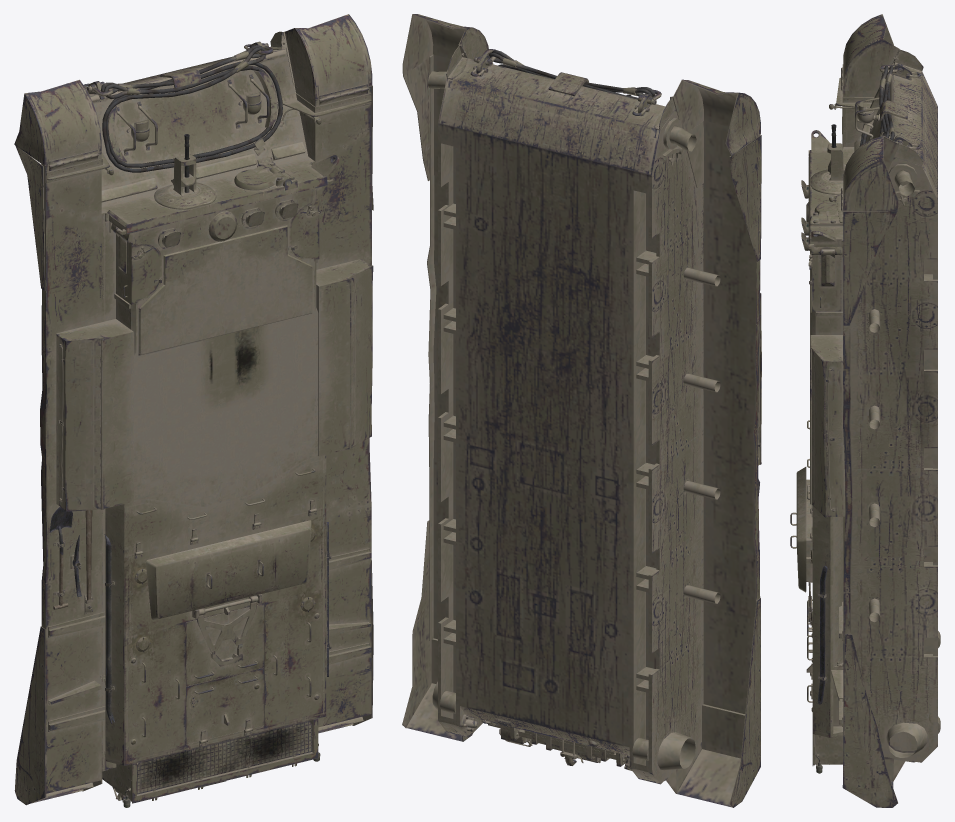
Rendered from Hull.glb.
The picture shows the model from 3 angles, left to right: view 1: azimuth 30°, elevation 25°; view 2: azimuth 150°, elevation 25°; view 3: azimuth 270°, elevation 25°; orthographic projection. The views are drawn at different scales.
Parts seen in each view (by area): view 1: set_0_group_0; view 2: set_0_group_0; view 3: set_0_group_0.
Boxes of the visible parts, x1,y1,x2,y2 form: set_0_group_0: [14, 14, 373, 807]; set_0_group_0: [402, 14, 761, 807]; set_0_group_0: [790, 14, 940, 807].
Size of the model in its own units: 3.15 by 6.48 by 1.35.
Materials: 1 (1 with a texture image).
